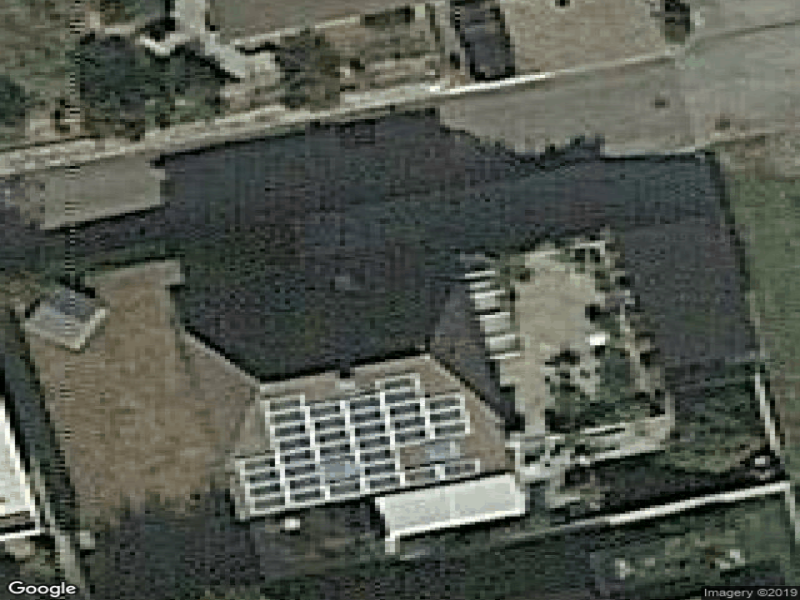pv: (243, 378, 480, 513)
